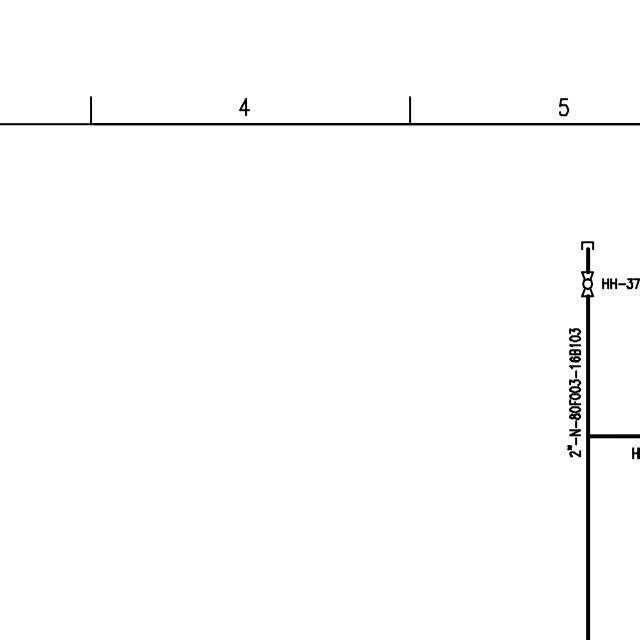BV2: (579, 268, 595, 300)
EC: (577, 232, 600, 265)
